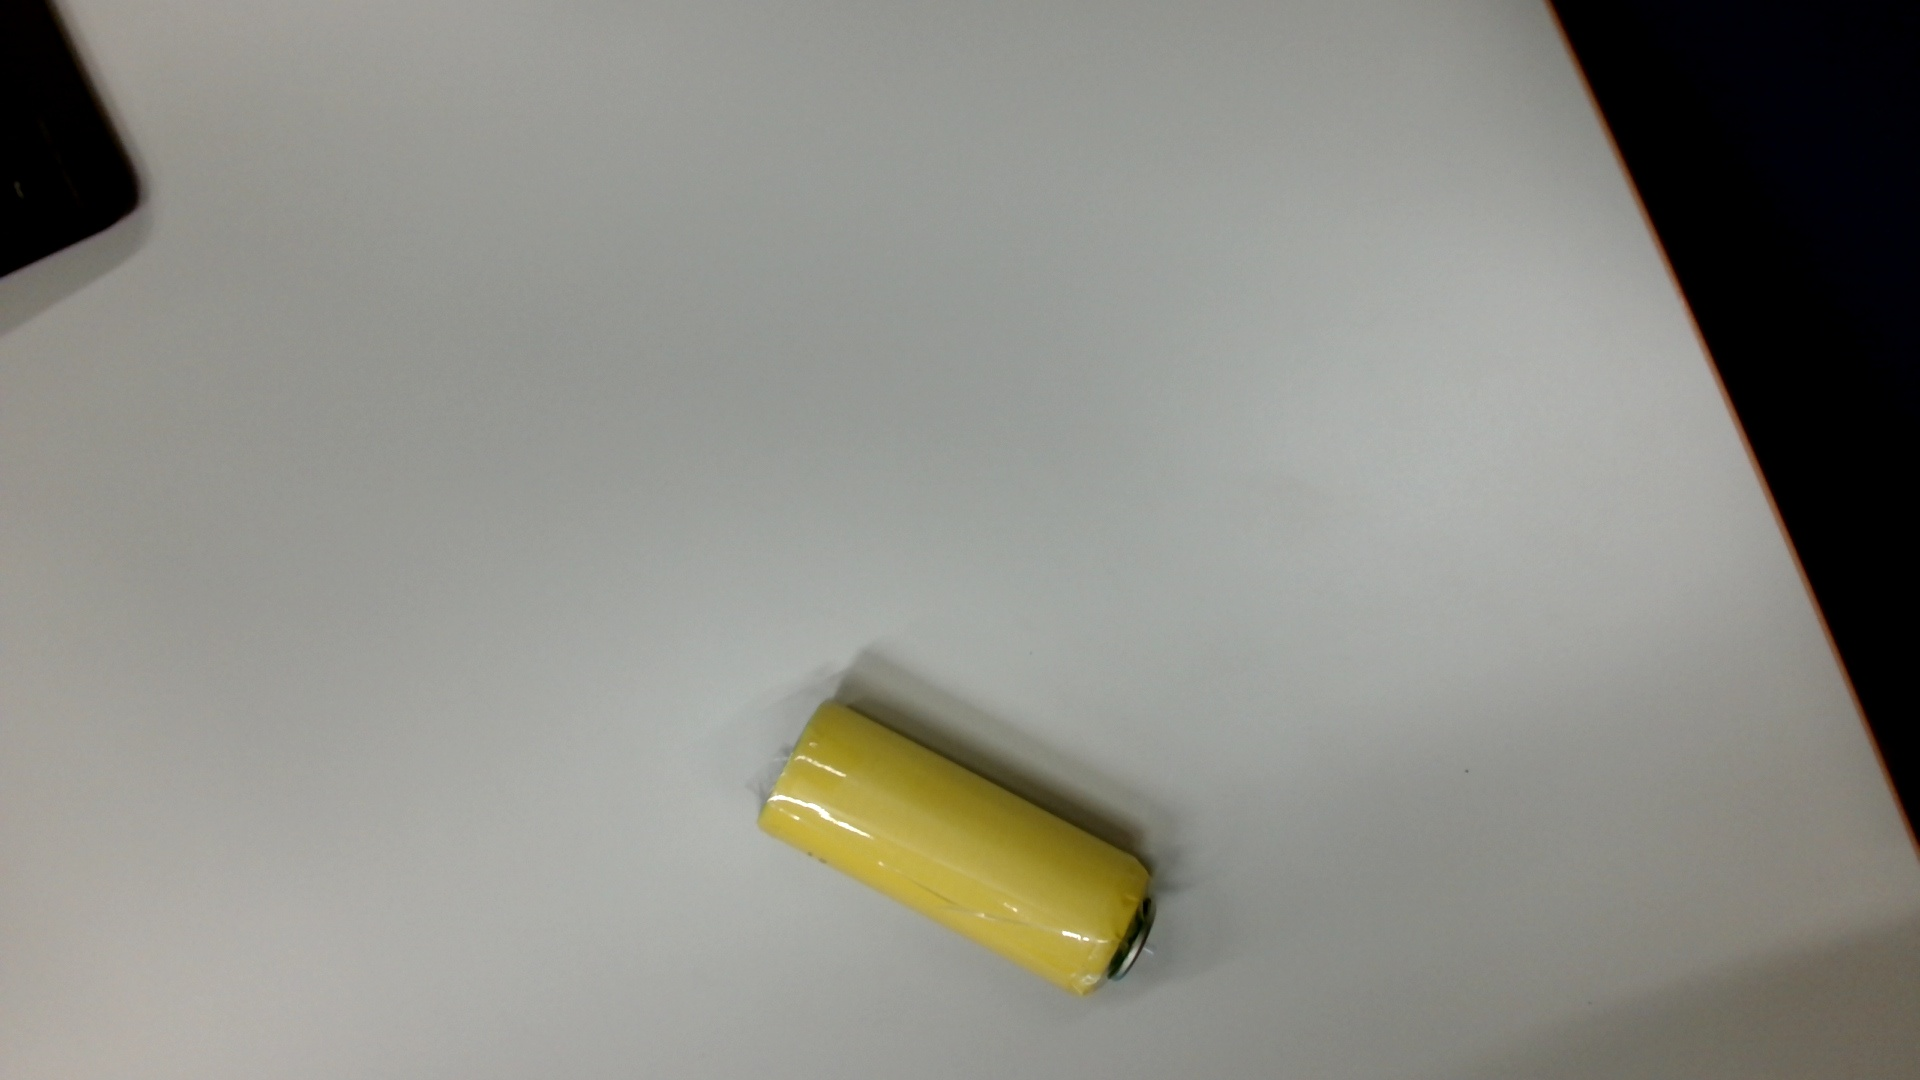Cylinder: (742, 688, 1178, 1013)
